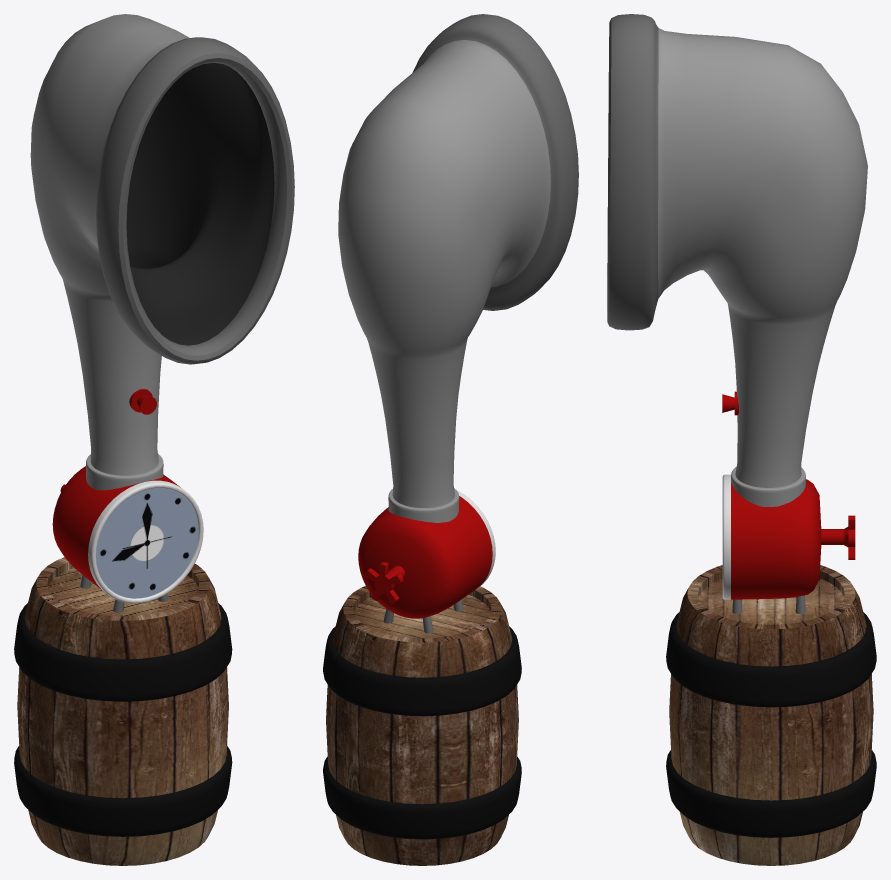
File: Spongebob's Clock.FBX
3 renders of one model, left to right at view 1: azimuth 30°, elevation 25°; view 2: azimuth 150°, elevation 25°; view 3: azimuth 270°, elevation 25°, orthographic. The views are drawn at different scales.
Parts seen in each view (by area): view 1: Clock, Barrel; view 2: Clock, Barrel; view 3: Clock, Barrel.
Boxes of the visible parts, x1,y1,x2,y2 form: Clock: [30, 14, 294, 612]; Barrel: [14, 557, 232, 865]; Clock: [338, 14, 578, 633]; Barrel: [323, 586, 521, 865]; Clock: [607, 14, 867, 614]; Barrel: [666, 565, 876, 865].
Size of the model in its own units: 117 by 498 by 150.
